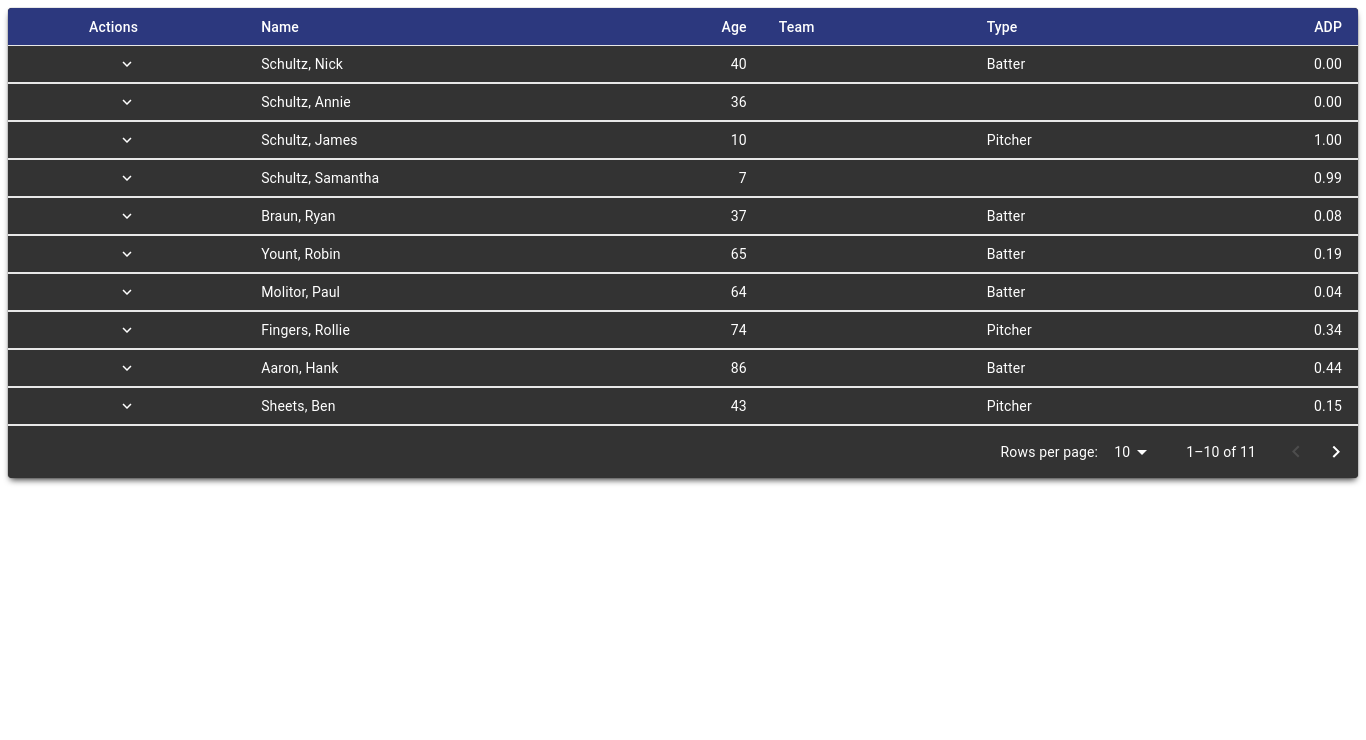
Test case: ParentTable › should handle displaying a child table
The image size is (1366, 740).
Check: the text "Child Title" is not shown
Click the button with test id "row-expand-10" at (127, 64), box [115,52,139,76]
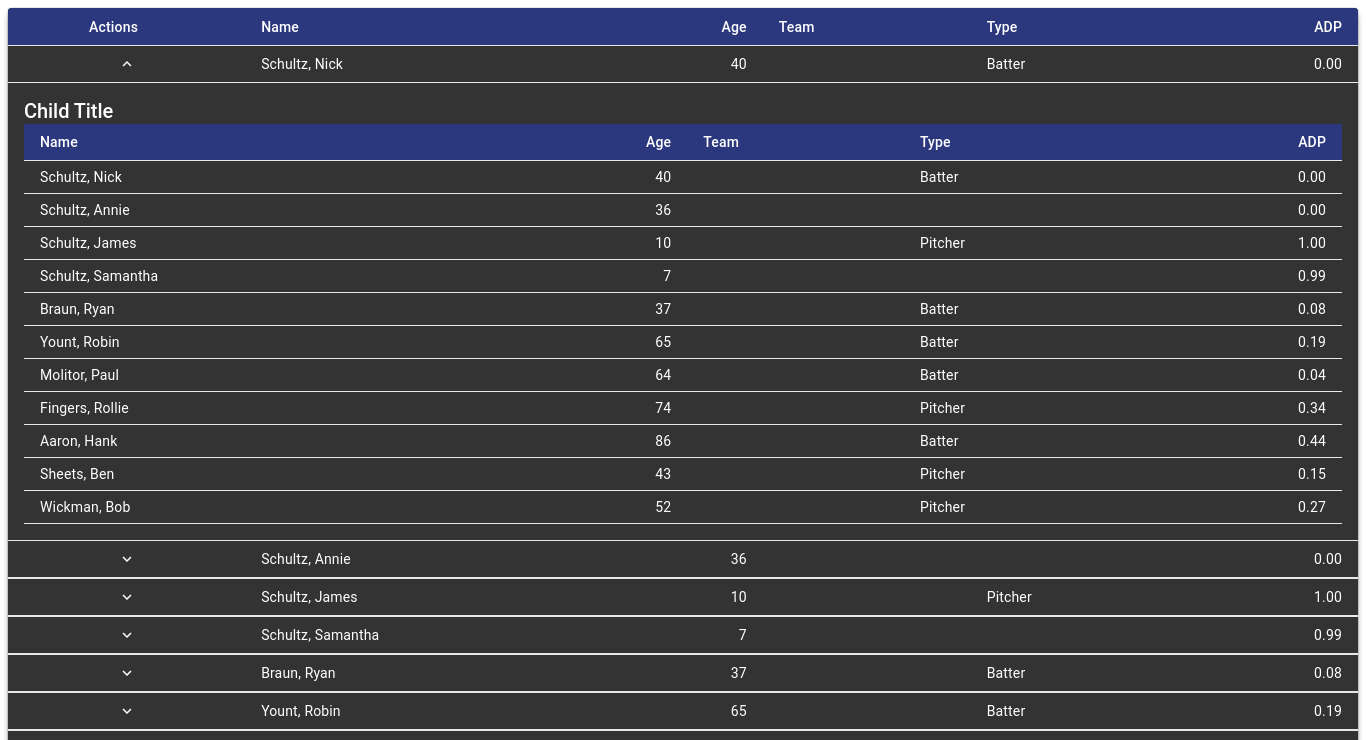
Check: the heading "Child Title" is shown, box [24,99,113,123]
